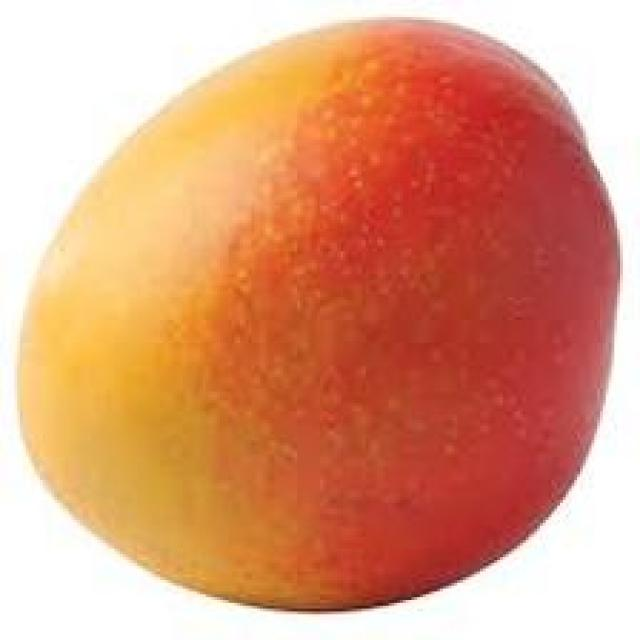Good_Mango: (11, 17, 623, 617)
